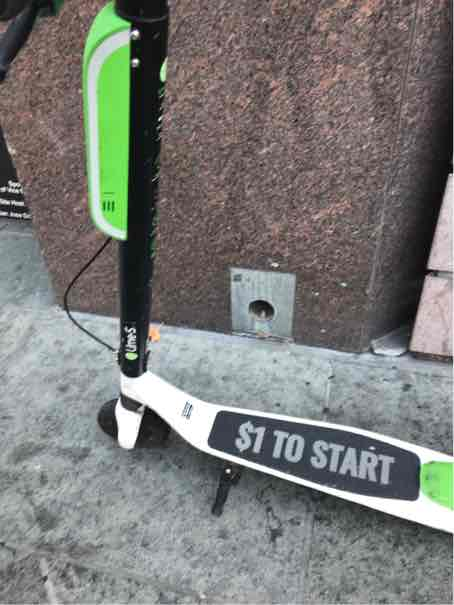scooter: (5, 10, 445, 596)
